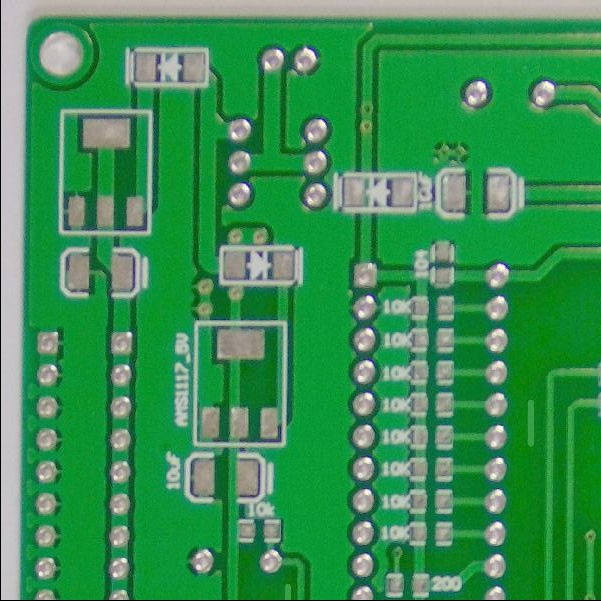spurious_copper: (516, 395, 545, 450), (276, 579, 299, 599)
